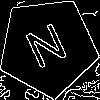N: (23, 22, 74, 78)
